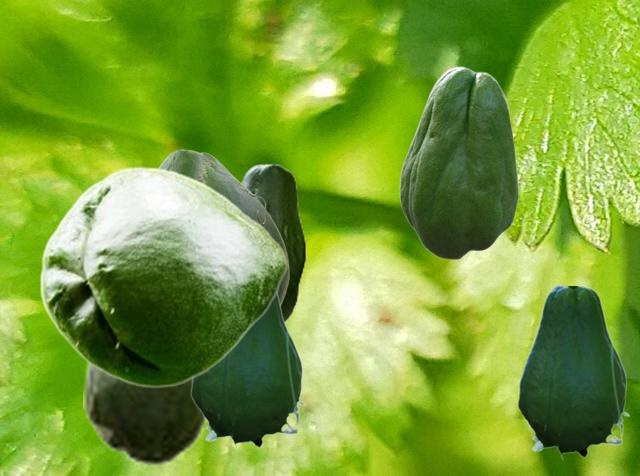sayote: (39, 166, 287, 387), (399, 66, 518, 259), (159, 149, 288, 304), (517, 286, 629, 460), (190, 294, 305, 450), (83, 360, 207, 466), (239, 163, 305, 324)
